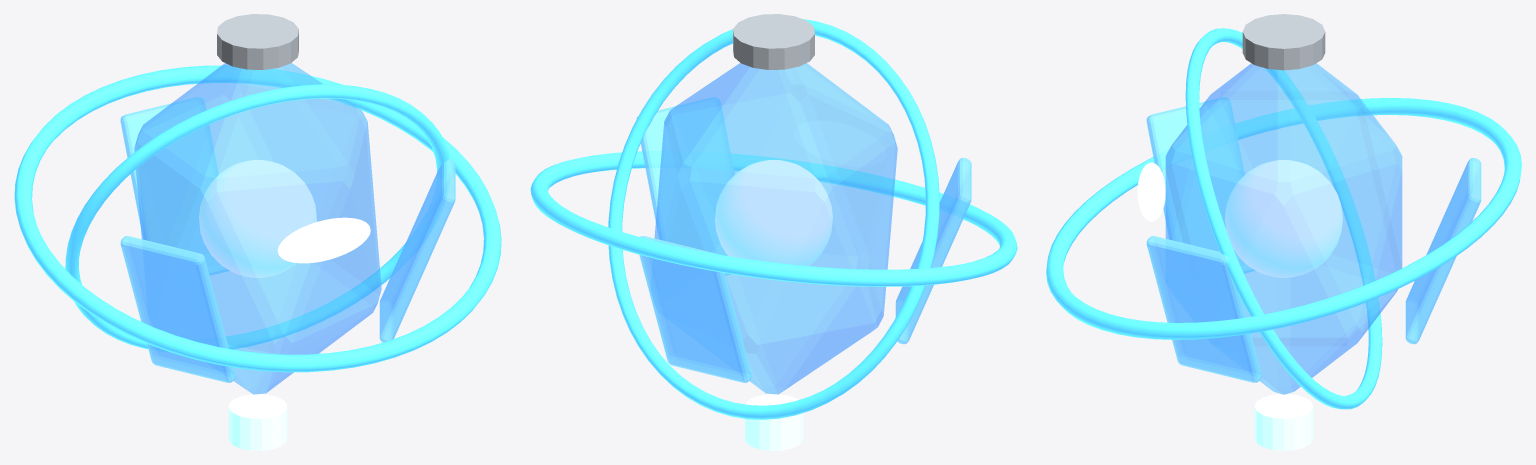
The model's file is aether.glb.
3 views of the same model, side by side, from view 1: azimuth 30°, elevation 25°; view 2: azimuth 150°, elevation 25°; view 3: azimuth 270°, elevation 25° (orthographic).
Visible parts, largest first — view 1: Body, Fins, Ring1, Ring2, Core, Cap, Thruster, Eye; view 2: Body, Fins, Ring1, Ring2, Core, Cap, Eye, Thruster; view 3: Body, Fins, Ring1, Ring2, Core, Cap, Thruster, Eye.
Boxes of the visible parts, <box> form: Body: <box>134,63,381,394</box>; Fins: <box>120,97,455,382</box>; Ring1: <box>14,65,501,372</box>; Ring2: <box>65,84,450,349</box>; Core: <box>199,160,316,277</box>; Cap: <box>217,14,298,69</box>; Thruster: <box>228,394,287,450</box>; Eye: <box>277,217,370,263</box>; Body: <box>654,63,897,394</box>; Fins: <box>636,97,971,382</box>; Ring1: <box>530,151,1017,286</box>; Ring2: <box>608,19,939,419</box>; Core: <box>715,160,832,265</box>; Cap: <box>733,14,814,69</box>; Eye: <box>794,121,886,166</box>; Thruster: <box>744,394,803,450</box>; Body: <box>1165,63,1402,394</box>; Fins: <box>1146,97,1481,382</box>; Ring1: <box>1046,98,1521,339</box>; Ring2: <box>1185,28,1382,409</box>; Core: <box>1225,160,1342,277</box>; Cap: <box>1242,14,1325,70</box>; Thruster: <box>1254,394,1313,450</box>; Eye: <box>1137,162,1165,221</box>.
Size of the model in its own units: 0.415 by 0.38 by 0.4027.
